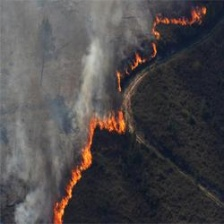fire: (37, 104, 138, 224), (106, 4, 212, 94)
smoke: (1, 5, 123, 111), (4, 118, 58, 215)
